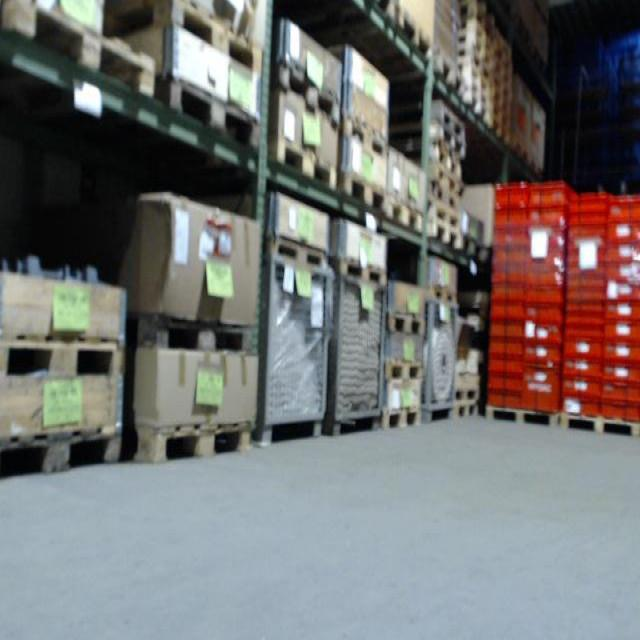pallet: (103, 0, 265, 77), (153, 73, 260, 149), (0, 330, 125, 384), (122, 308, 258, 356), (0, 427, 123, 478), (120, 422, 257, 465), (269, 57, 342, 128), (266, 133, 339, 191), (335, 168, 389, 215), (558, 411, 640, 441), (338, 112, 388, 159), (264, 234, 329, 270), (330, 252, 389, 288), (395, 5, 432, 62), (484, 405, 561, 431), (384, 193, 426, 236), (432, 48, 467, 99), (383, 307, 425, 336), (380, 407, 424, 432), (383, 355, 424, 380), (460, 233, 488, 264), (437, 110, 466, 138), (430, 153, 463, 177), (430, 222, 460, 247), (430, 185, 460, 209), (435, 133, 465, 155), (454, 396, 481, 420), (431, 204, 460, 225), (430, 167, 455, 189), (430, 285, 457, 305), (454, 385, 479, 405), (490, 120, 510, 141), (494, 63, 512, 85), (494, 81, 511, 103), (493, 89, 506, 113), (498, 50, 512, 70), (493, 106, 507, 122)
small_load_carrier: (518, 365, 554, 411), (526, 225, 566, 250), (489, 182, 526, 208), (526, 250, 564, 274), (528, 184, 568, 206), (604, 342, 639, 366), (558, 394, 599, 414), (607, 220, 639, 245), (601, 382, 638, 403), (559, 375, 599, 394), (606, 260, 639, 283), (526, 288, 562, 309), (598, 404, 639, 422), (608, 196, 637, 221), (605, 320, 639, 341), (607, 240, 639, 262), (521, 327, 562, 344), (606, 299, 639, 320), (521, 310, 559, 327), (567, 340, 601, 359), (526, 209, 566, 225), (525, 344, 562, 361), (606, 223, 639, 241), (490, 299, 523, 317), (491, 317, 523, 335), (488, 372, 521, 389), (495, 269, 526, 287), (602, 366, 639, 381), (607, 283, 639, 300), (491, 335, 523, 352), (526, 274, 564, 288), (494, 238, 526, 254), (489, 356, 521, 372), (566, 359, 601, 373), (493, 222, 529, 235), (495, 254, 526, 269), (490, 338, 523, 352), (490, 287, 526, 299), (496, 211, 526, 223)
stillage: (255, 246, 339, 453), (330, 259, 396, 443), (420, 285, 468, 425)
